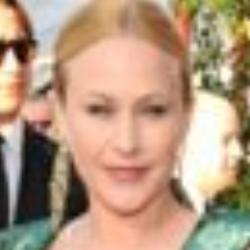face: (43, 3, 206, 219), (2, 2, 42, 134)
